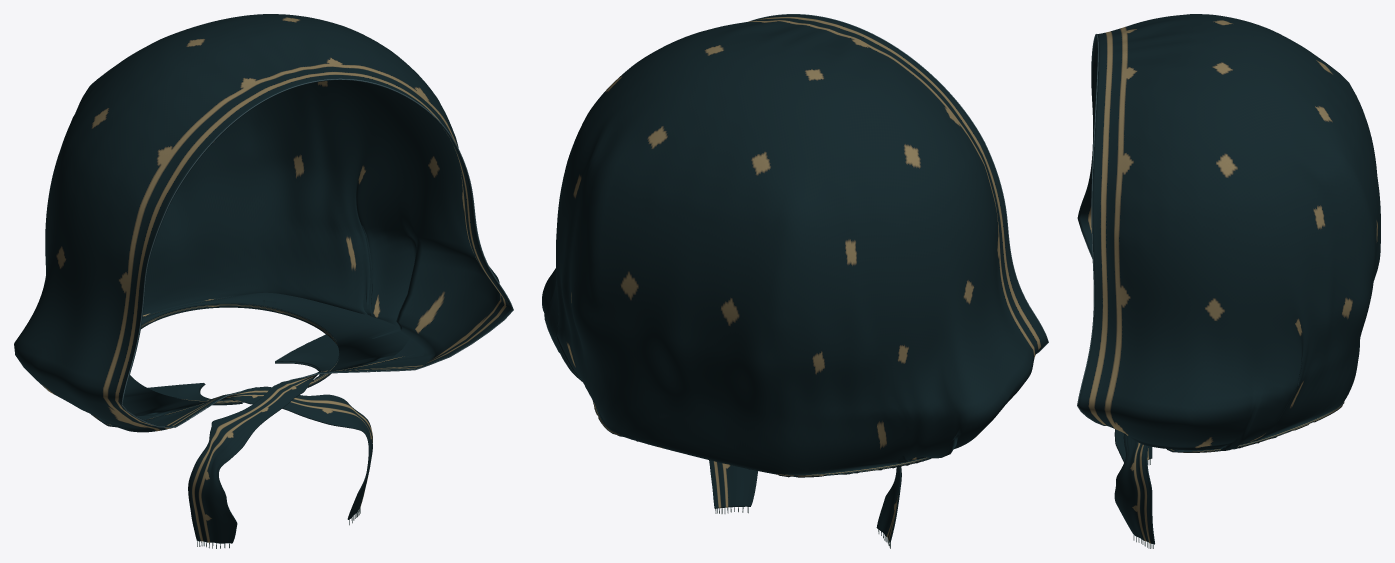
The model's file is Feminine-box-braids-tank-pashmina249-headgear.glb.
3 renders of one model, left to right at view 1: azimuth 30°, elevation 25°; view 2: azimuth 150°, elevation 25°; view 3: azimuth 270°, elevation 25°, orthographic. The views are drawn at different scales.
Parts seen in each view (by area): view 1: 226 headgear / Headwear / continuous woven pashmina239, 226 headgear / Headwear / face edge239; view 2: 226 headgear / Headwear / continuous woven pashmina239, 226 headgear / Headwear / face edge239; view 3: 226 headgear / Headwear / continuous woven pashmina239, 226 headgear / Headwear / face edge239.
Part boxes in pixels (bbox=[...]): 226 headgear / Headwear / continuous woven pashmina239: bbox=[14, 14, 512, 543]; 226 headgear / Headwear / face edge239: bbox=[121, 78, 513, 427]; 226 headgear / Headwear / continuous woven pashmina239: bbox=[542, 14, 1047, 542]; 226 headgear / Headwear / face edge239: bbox=[749, 14, 1048, 353]; 226 headgear / Headwear / continuous woven pashmina239: bbox=[1077, 14, 1380, 544]; 226 headgear / Headwear / face edge239: bbox=[1077, 34, 1105, 425].
Bounding box in the file's own units: 1.33 × 1.38 × 0.8073.
3 materials, 1 textured.
